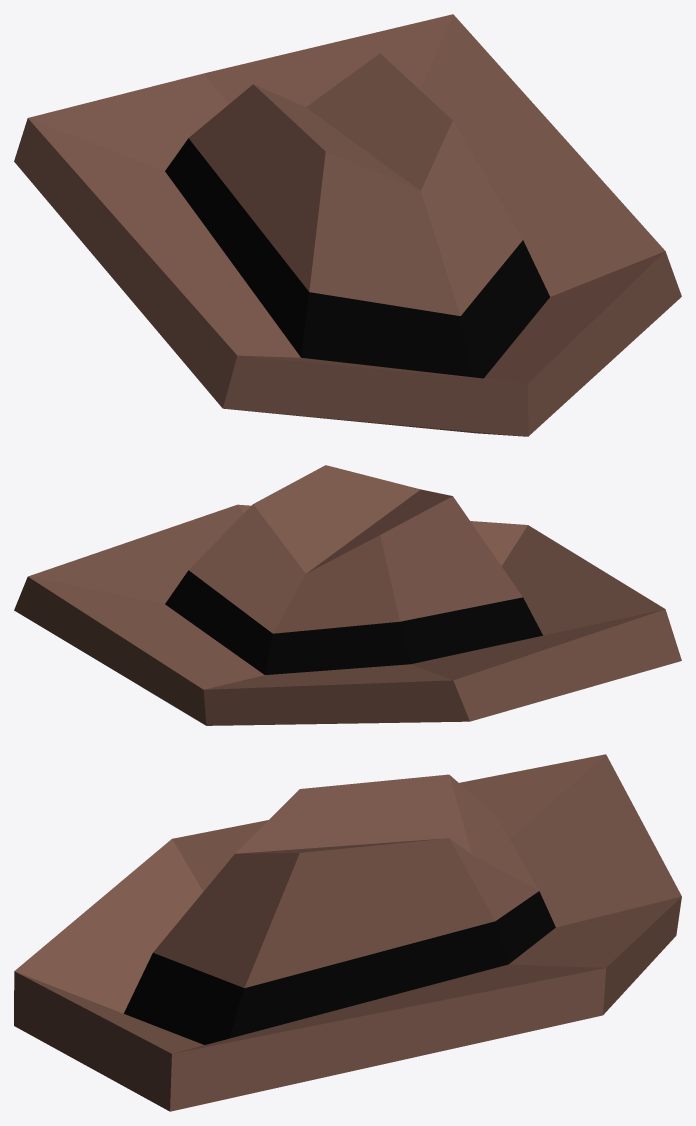
The model's file is Hat.fbx.
3 renders of one model, top to bottom at view 1: azimuth 30°, elevation 25°; view 2: azimuth 150°, elevation 25°; view 3: azimuth 270°, elevation 25°, orthographic. The views are drawn at different scales.
Visible parts, largest first — view 1: Hat; view 2: Hat; view 3: Hat.
Part boxes in pixels (bbox=[...]): Hat: bbox=[14, 14, 681, 436]; Hat: bbox=[14, 465, 681, 725]; Hat: bbox=[14, 754, 681, 1111].
Size of the model in its own units: 0.5732 by 0.2952 by 0.7016.
